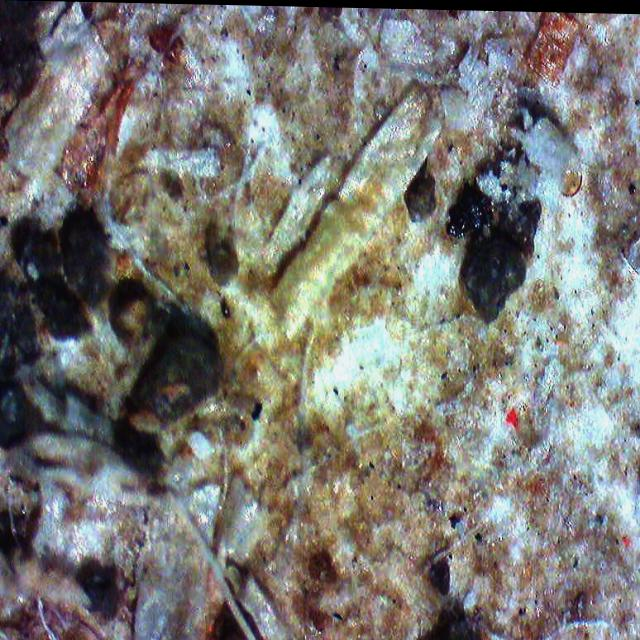microplastic: (507, 405, 518, 426)
